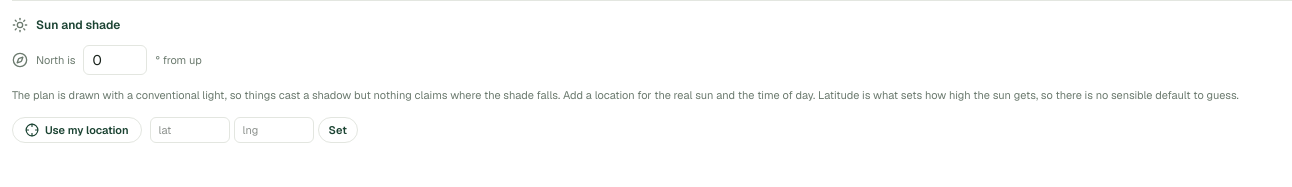
Test: using the browser location › copes with a browser that cannot do it at all
The width and height of the screenshot is (1292, 187).
Click the button with test id "use-my-location": (77, 130) [12, 117, 142, 143]
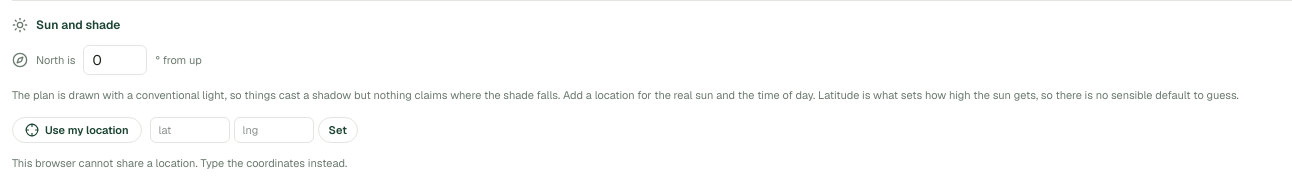
Expected: the message with test id "sun-problem" shows "cannot share a location", [12, 156, 347, 170]
